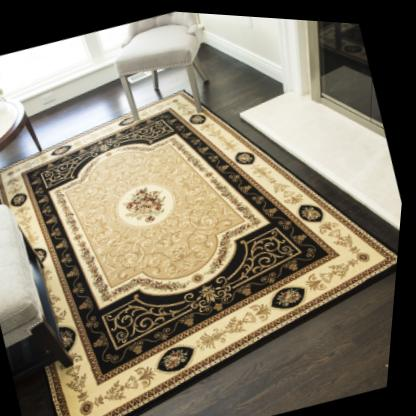Carpet: (0, 85, 402, 416)
